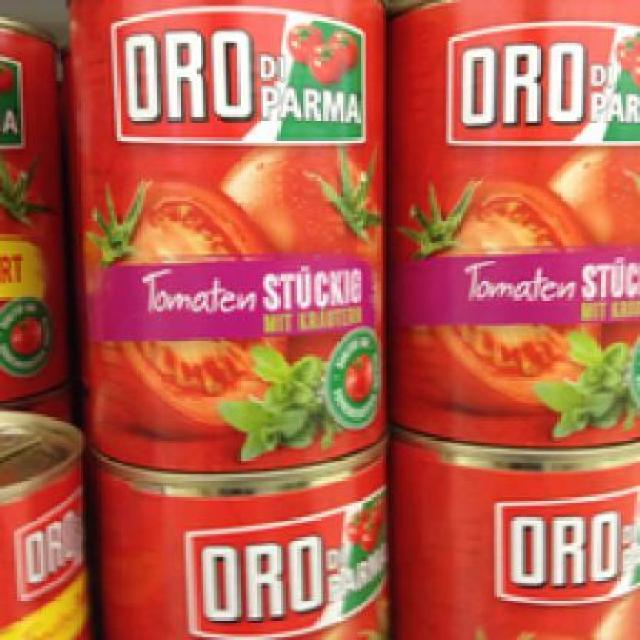Tomato Sauce: (63, 0, 387, 472), (383, 0, 637, 446)
